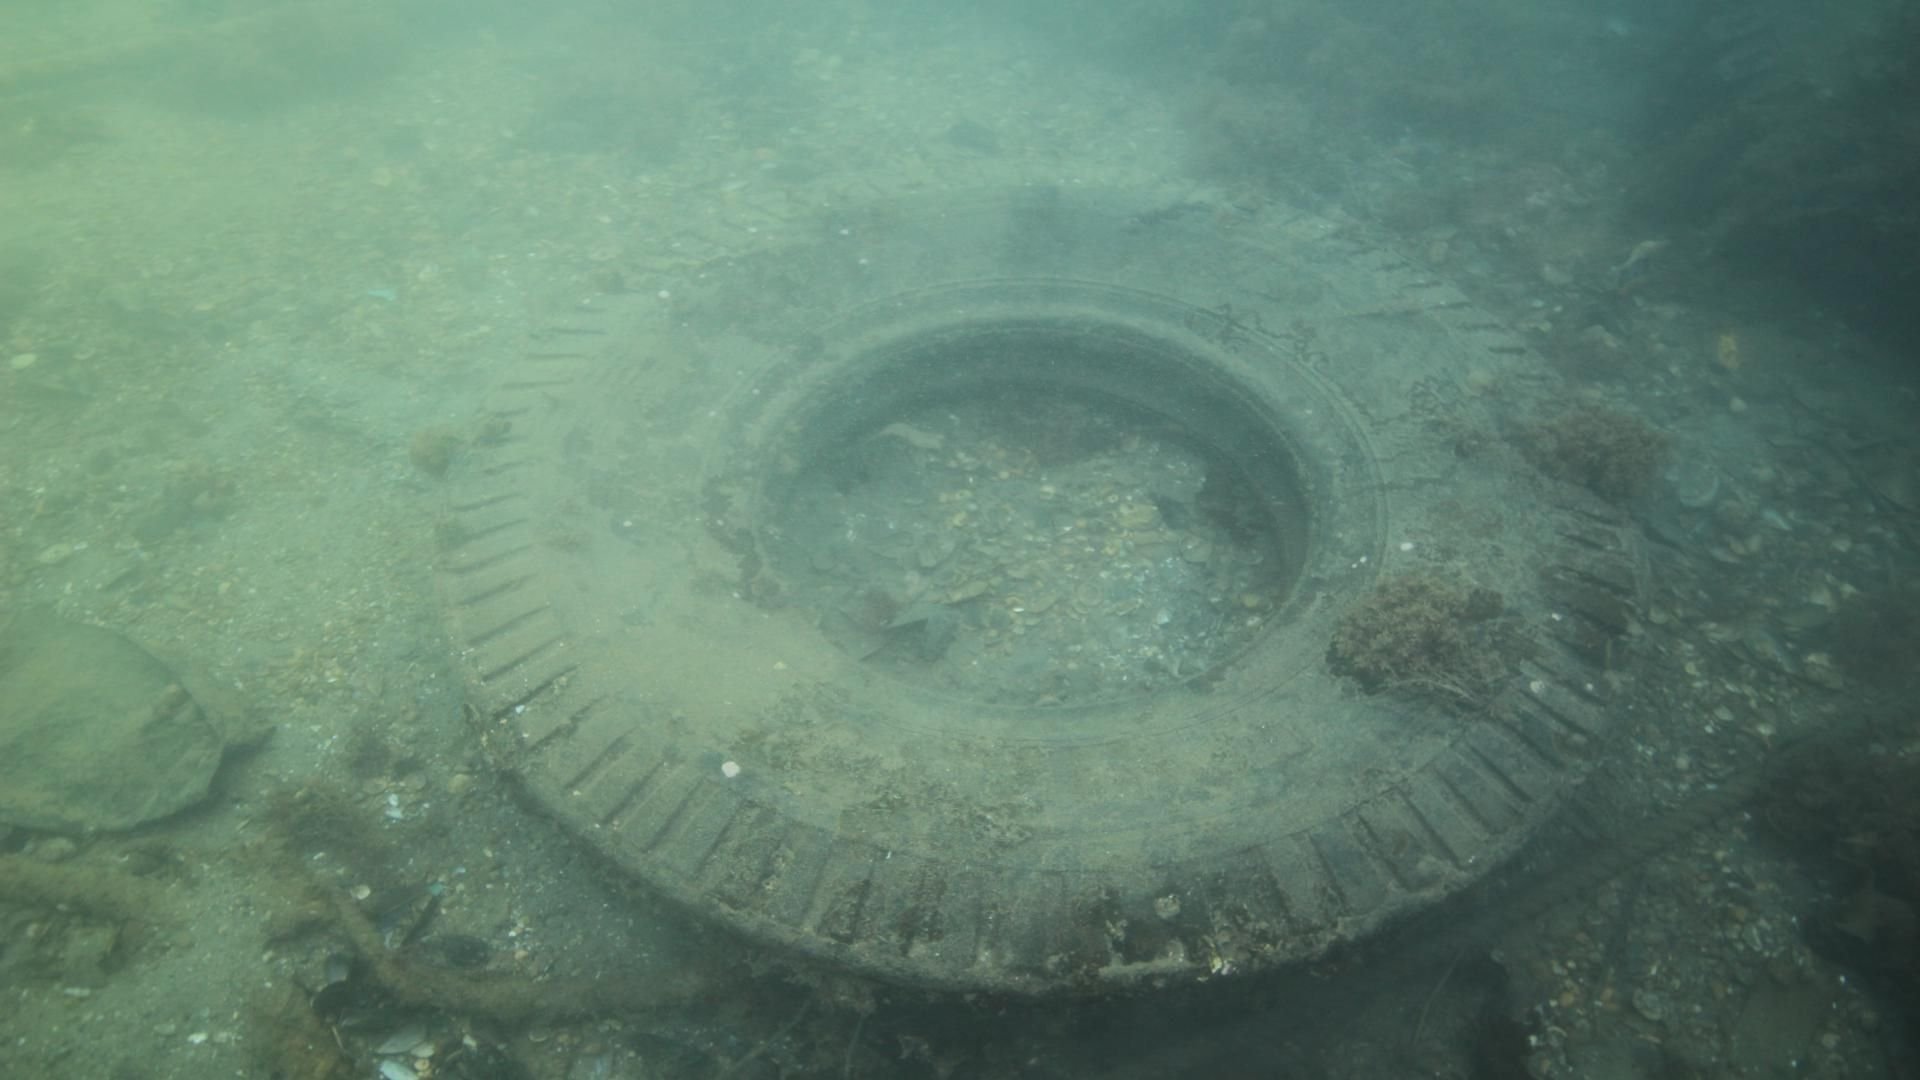rope: (1097, 688, 1920, 1080)
tire: (442, 154, 1644, 1029)
